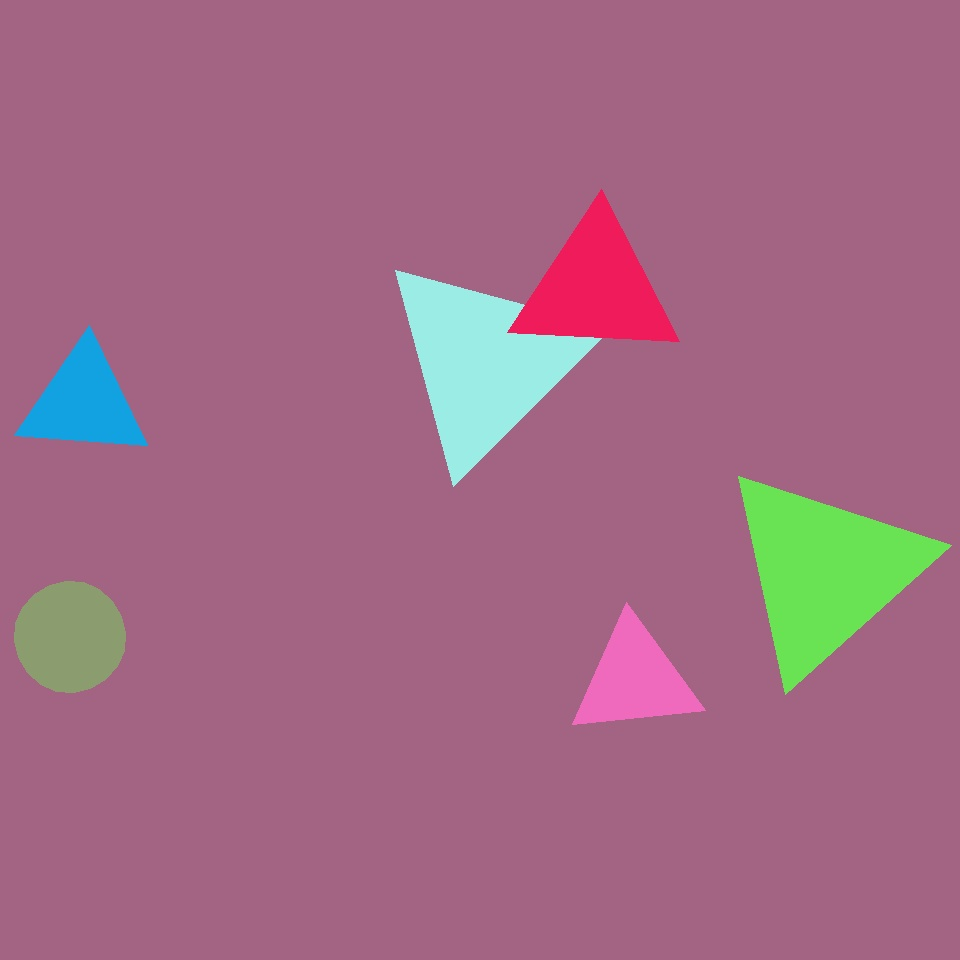circle: (379, 254, 595, 470), (718, 463, 932, 681), (510, 212, 682, 364), (569, 618, 702, 740), (17, 342, 150, 462)
square: (468, 189, 846, 567), (527, 228, 663, 364)
triangle: (15, 582, 126, 693)
